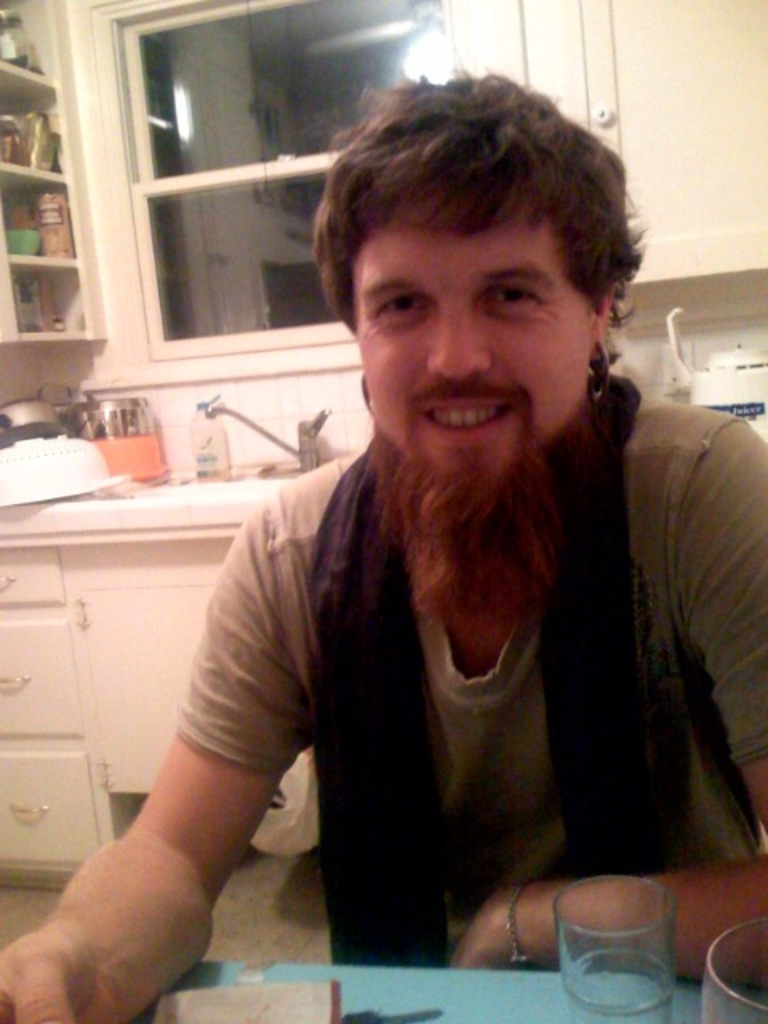Human_hand: (0, 933, 114, 1022), (448, 885, 522, 974)
